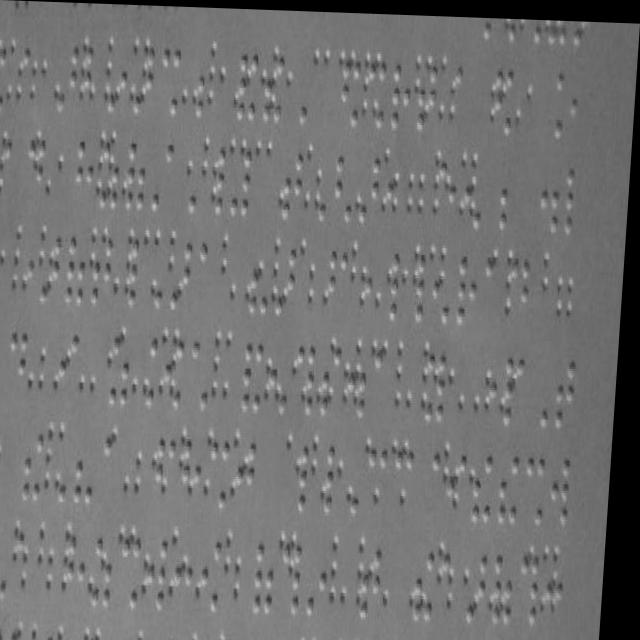braiile: (152, 533, 179, 612), (312, 537, 338, 617), (206, 535, 233, 612), (524, 550, 551, 625), (541, 65, 568, 140), (213, 433, 239, 510), (158, 42, 184, 119), (126, 534, 151, 614), (529, 448, 554, 527), (503, 449, 529, 524), (79, 432, 104, 508), (489, 155, 514, 231), (478, 451, 503, 526), (390, 57, 415, 131), (558, 353, 582, 428), (247, 337, 271, 412), (27, 433, 52, 504), (459, 251, 483, 324), (555, 450, 578, 526), (57, 42, 81, 113), (536, 353, 559, 427), (290, 56, 314, 126), (541, 158, 564, 231), (93, 236, 117, 304), (232, 148, 255, 218), (361, 153, 383, 220), (285, 151, 307, 218), (0, 530, 18, 601)
